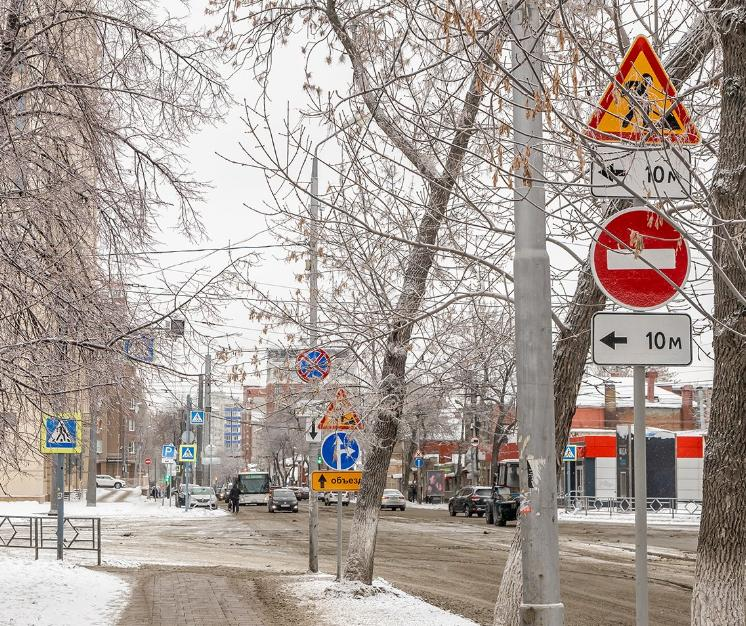obstructed_road_sign: (580, 35, 703, 142), (590, 204, 691, 310), (316, 388, 366, 429), (40, 412, 82, 453), (322, 432, 360, 471), (120, 327, 156, 364), (296, 347, 330, 384), (312, 472, 362, 490), (306, 417, 321, 442), (563, 445, 577, 461)
road_sign: (592, 144, 690, 198), (592, 312, 691, 363), (180, 444, 196, 462), (190, 410, 205, 424), (163, 446, 174, 457), (145, 458, 151, 464)
